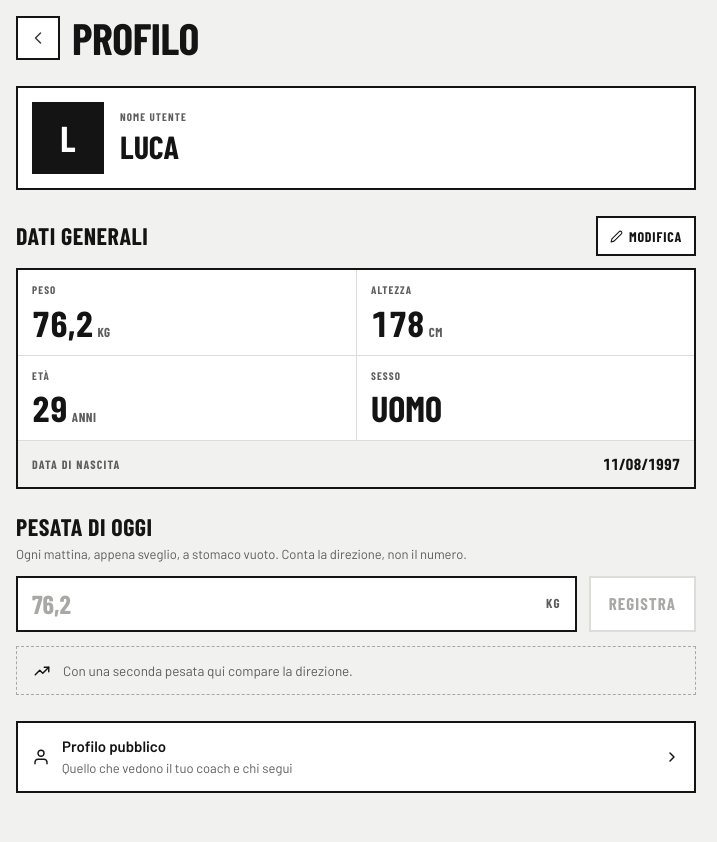
Test: il profilo › «Registra» sta accanto al campo, si accende solo con un peso, e registra la pesata
This screenshot has width=717, height=842.
Expected: the button "Registra" is disabled, top-left (589, 576), bottom-right (696, 632)
Expected: the text "Con una seconda pesata qui compare la direzione." is shown, top-left (16, 646), bottom-right (696, 695)
Type "75.8" into the number field named "Peso di oggi in kg".
click(285, 604); type("75.8")  # box top-left (32, 590), bottom-right (538, 618)
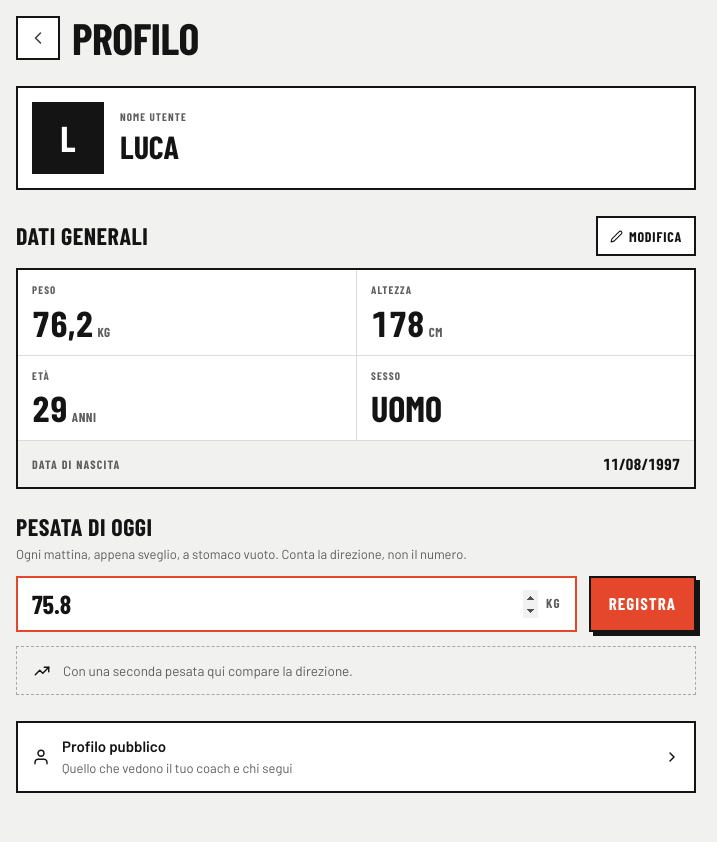
Expected: the button "Registra" is enabled
Click the button "Registra".
click(642, 604)  # box top-left (589, 576), bottom-right (696, 632)
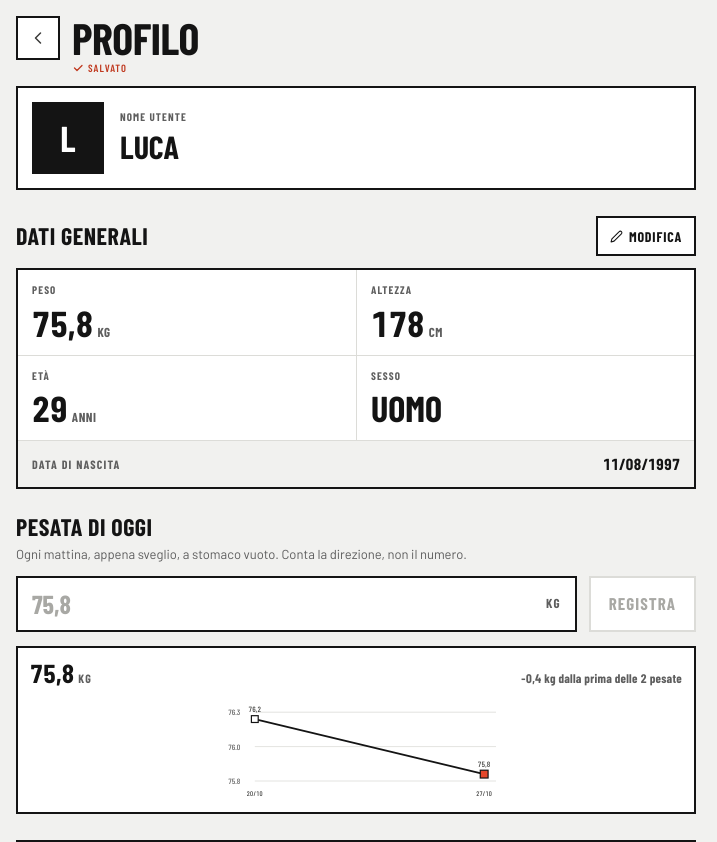
Expected: the text "Con una seconda pesata qui compare la direzione." is gone
